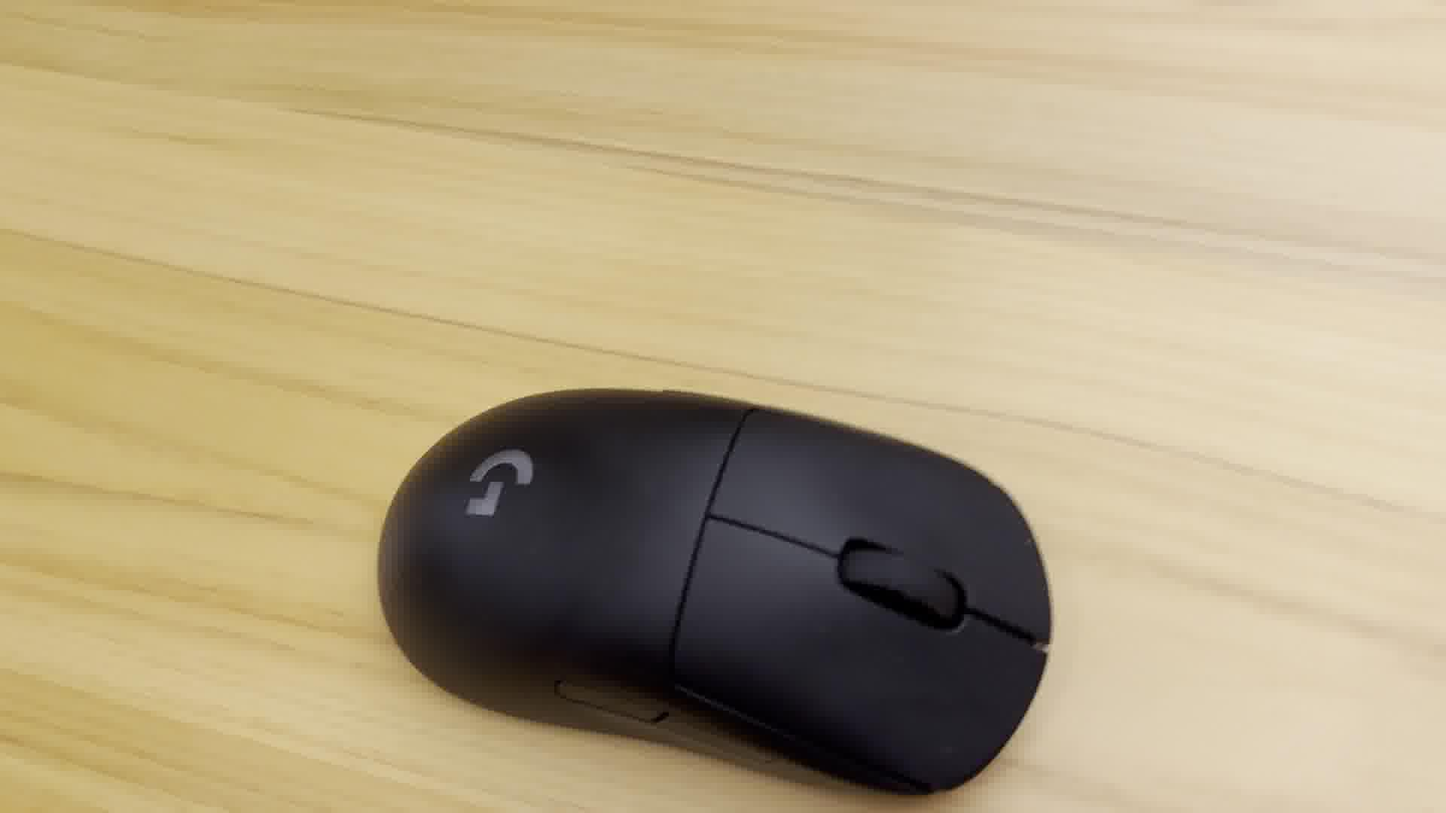mouse: (371, 376, 1058, 800)
